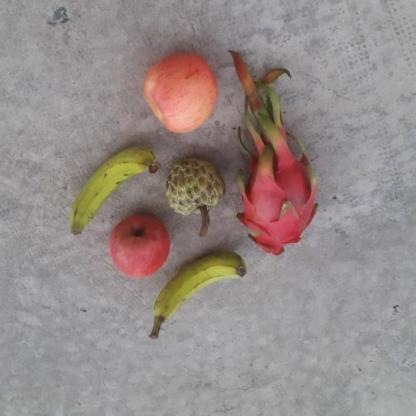annona: (159, 153, 226, 219)
apple: (142, 50, 224, 136), (104, 215, 177, 280)
banana: (69, 146, 166, 238), (152, 254, 252, 328)
pitaya: (231, 140, 322, 258)
